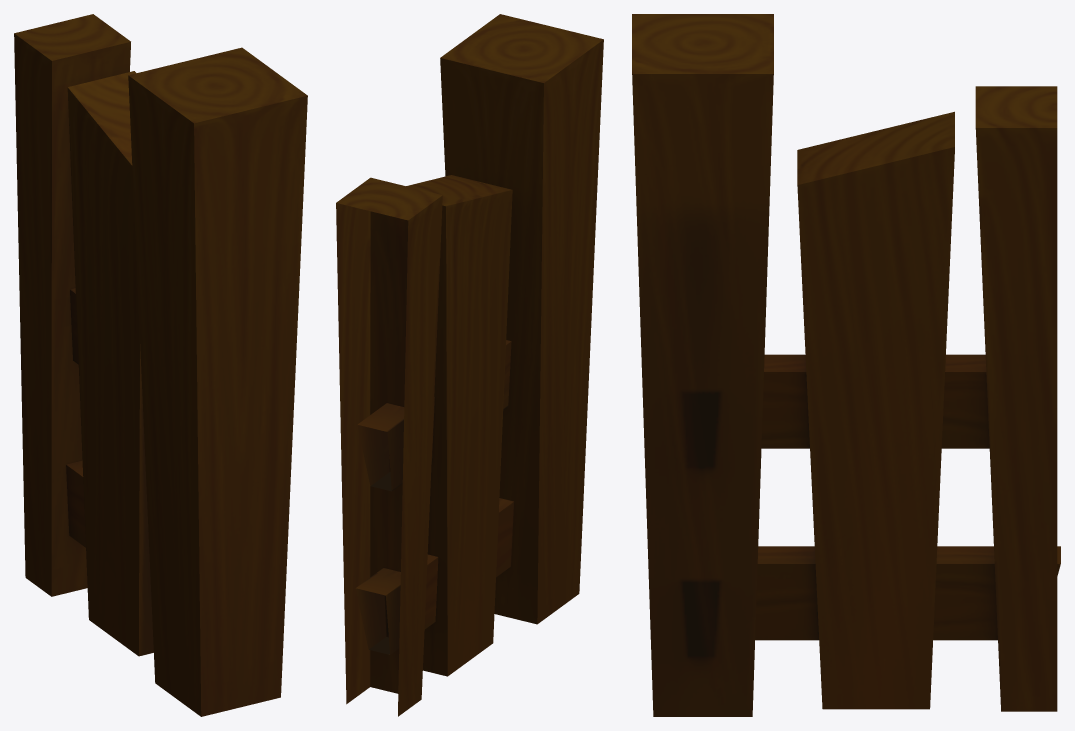
The model's file is fence-kenar.fbx.
3 views of the same model, side by side, from view 1: azimuth 30°, elevation 25°; view 2: azimuth 150°, elevation 25°; view 3: azimuth 270°, elevation 25° (orthographic). The views are drawn at different scales.
Visible parts, largest first — view 1: kose-parca; view 2: kose-parca; view 3: kose-parca.
Boxes of the visible parts, x1,y1,x2,y2 form: kose-parca: (14,14,307,716); kose-parca: (336,14,603,716); kose-parca: (632,14,1060,716).
Size of the model in its own units: 50 by 254 by 151.
Materials: 1 (1 with a texture image).
